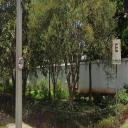speed_limit_40: (18, 55, 24, 70)
